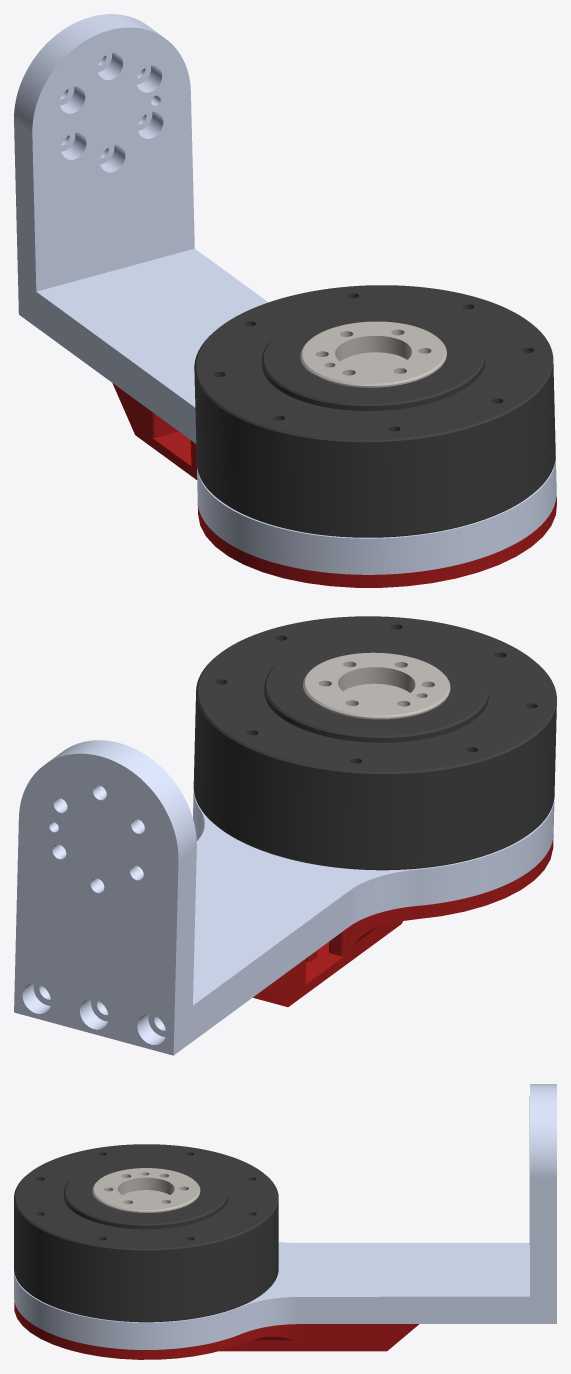
Rendered from steering.dae.
3 renders of one model, top to bottom at view 1: azimuth 30°, elevation 25°; view 2: azimuth 150°, elevation 25°; view 3: azimuth 270°, elevation 25°, orthographic. The views are drawn at different scales.
Visible parts, largest first — view 1: 01.03.01.02.02_01_Outer Section, 01.03.01.04.01_01_Top Plate, 01.03.01.04.02_01_Vertical Plate, 01.03.01.02.01_01_Inner Section, 01.03.01.04.03_01_Motor Cap; view 2: 01.03.01.02.02_01_Outer Section, 01.03.01.04.01_01_Top Plate, 01.03.01.04.02_01_Vertical Plate, 01.03.01.02.01_01_Inner Section, 01.03.01.04.03_01_Motor Cap; view 3: 01.03.01.02.02_01_Outer Section, 01.03.01.04.02_01_Vertical Plate, 01.03.01.04.03_01_Motor Cap, 01.03.01.04.01_01_Top Plate, 01.03.01.02.01_01_Inner Section.
Boxes of the visible parts, left/top/right/bottom form: 01.03.01.02.02_01_Outer Section: left=194, top=285, right=555, bottom=537; 01.03.01.04.01_01_Top Plate: left=14, top=14, right=194, bottom=327; 01.03.01.04.02_01_Vertical Plate: left=36, top=248, right=556, bottom=574; 01.03.01.02.01_01_Inner Section: left=300, top=321, right=446, bottom=387; 01.03.01.04.03_01_Motor Cap: left=112, top=383, right=556, bottom=587; 01.03.01.02.02_01_Outer Section: left=193, top=616, right=556, bottom=870; 01.03.01.04.01_01_Top Plate: left=14, top=740, right=196, bottom=1055; 01.03.01.04.02_01_Vertical Plate: left=192, top=790, right=554, bottom=1041; 01.03.01.02.01_01_Inner Section: left=303, top=652, right=450, bottom=719; 01.03.01.04.03_01_Motor Cap: left=253, top=836, right=553, bottom=1007; 01.03.01.02.02_01_Outer Section: left=14, top=1144, right=278, bottom=1322; 01.03.01.04.02_01_Vertical Plate: left=14, top=1242, right=529, bottom=1349; 01.03.01.04.03_01_Motor Cap: left=14, top=1302, right=419, bottom=1359; 01.03.01.04.01_01_Top Plate: left=529, top=1084, right=556, bottom=1323; 01.03.01.02.01_01_Inner Section: left=92, top=1168, right=200, bottom=1212.
Size of the model in its own units: 0.099 by 0.201 by 0.0953.
